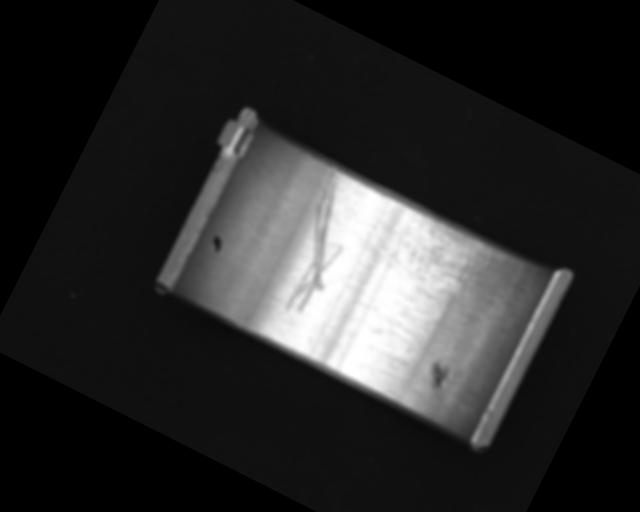blot: (207, 233, 227, 255)
bruise: (422, 356, 455, 393)
nick: (262, 164, 375, 322)
scratch: (357, 194, 504, 314)
